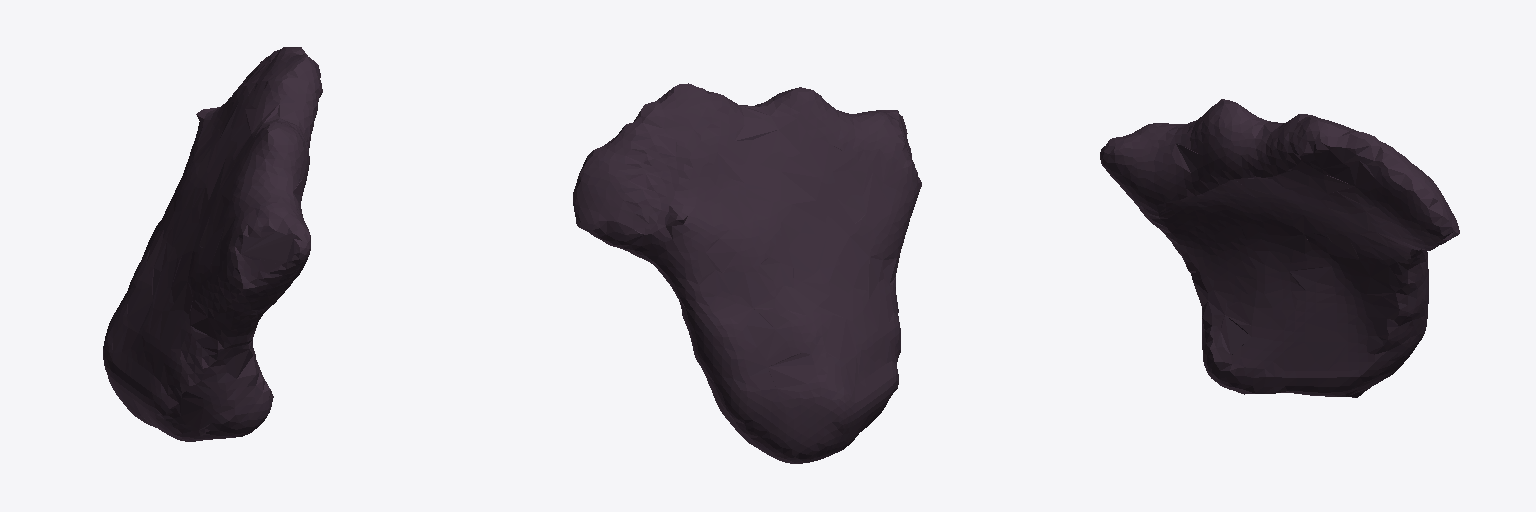
The model's file is Model_10209_LH__Lateral_amygdaloid_nucleus_(La).obj.
3 renders of one model, left to right at view 1: azimuth 30°, elevation 25°; view 2: azimuth 150°, elevation 25°; view 3: azimuth 270°, elevation 25°, orthographic.
Size of the model in its own units: 2.49 by 3.47 by 3.35.